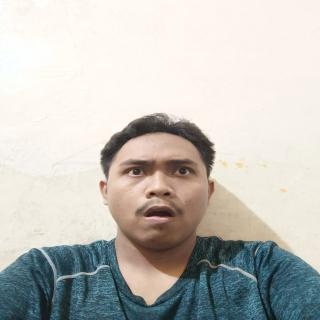Takut: (101, 129, 223, 258)
